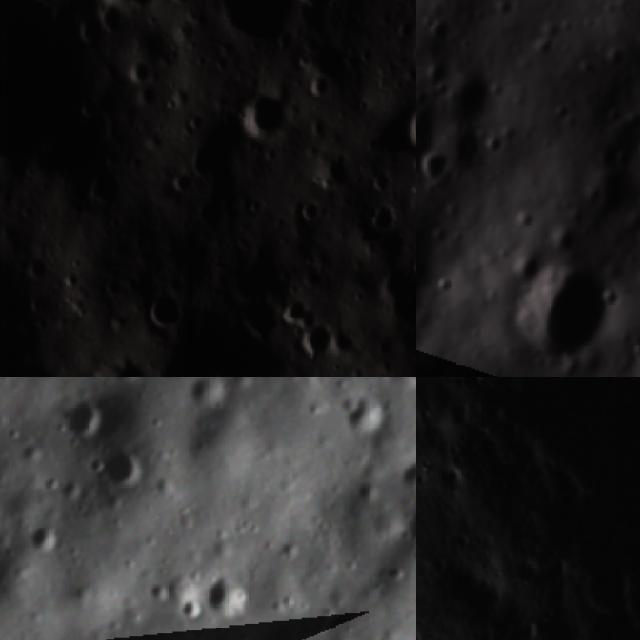crater: (466, 377, 640, 571), (0, 0, 118, 183), (512, 254, 622, 366), (53, 384, 128, 459), (205, 0, 308, 51), (85, 440, 157, 512), (328, 386, 399, 457), (234, 90, 304, 150), (7, 506, 71, 570), (194, 565, 256, 627), (442, 72, 495, 132), (172, 377, 241, 423), (135, 288, 194, 335), (81, 348, 154, 377), (432, 456, 473, 502), (384, 446, 416, 502), (296, 321, 336, 362), (503, 252, 546, 290), (366, 196, 406, 236), (270, 290, 311, 328), (416, 147, 451, 188), (396, 92, 416, 159), (91, 0, 164, 17), (295, 193, 323, 231), (398, 497, 416, 551), (626, 571, 640, 640), (291, 0, 343, 17), (416, 108, 436, 147), (436, 276, 458, 298)
